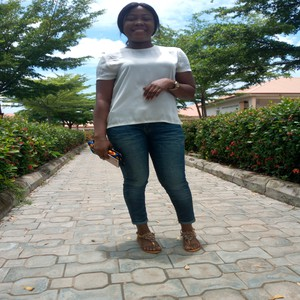Fulokoja_female_student: (106, 3, 203, 253)
